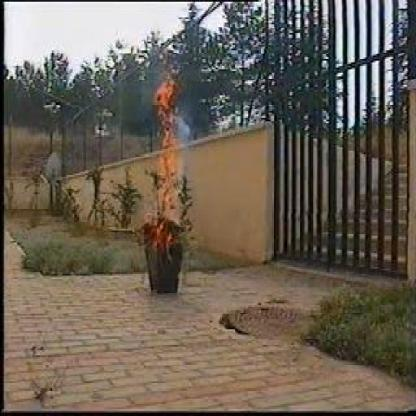-: (175, 112, 199, 167)
foggia-v2-map80-epoch100 - v1 4323: (146, 78, 176, 241)
